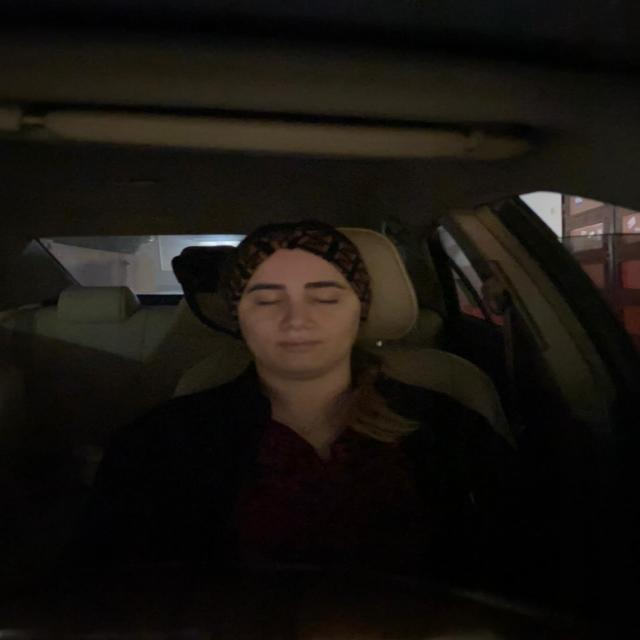drowsy: (230, 225, 362, 376)
